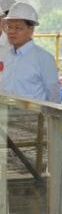hard-hat: (3, 1, 39, 25)
